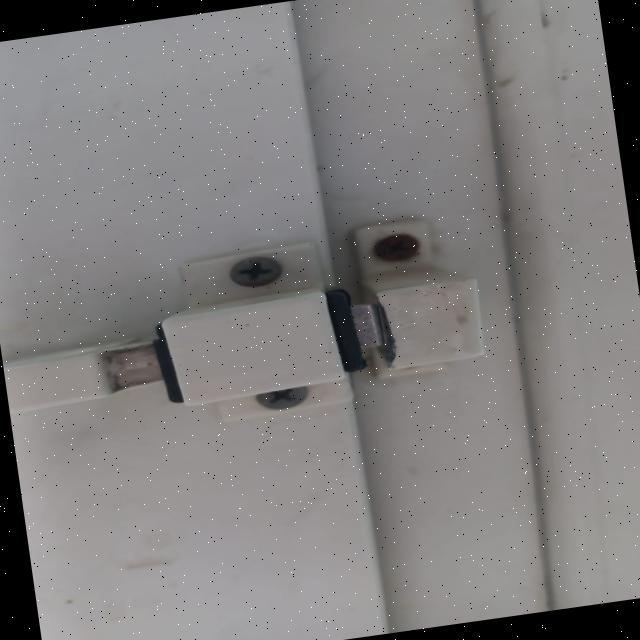Phillips: (356, 224, 441, 269), (220, 250, 290, 290)
